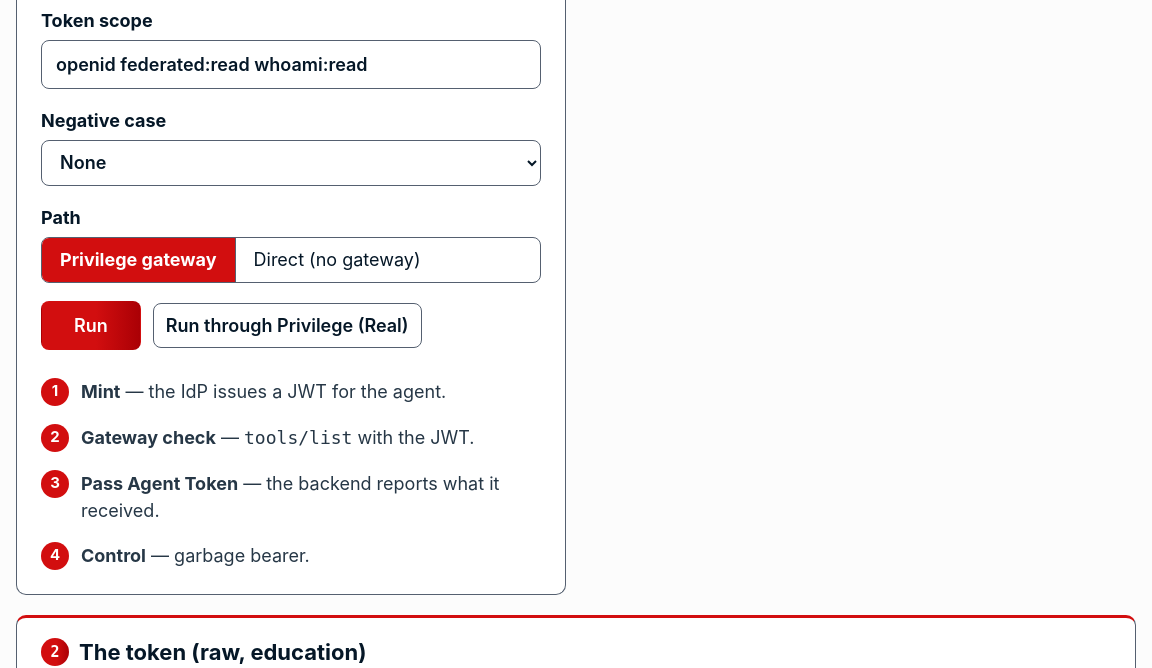
Workload Identity Lab › run shows gateway acceptance, tools, passthrough and 401 control
(page scrolled)
What coordinates should you click on to do the following:
click the button with test id "run-btn"
I would click on:
 (91, 325)
Its box is [41, 301, 141, 350].
(page scrolled)
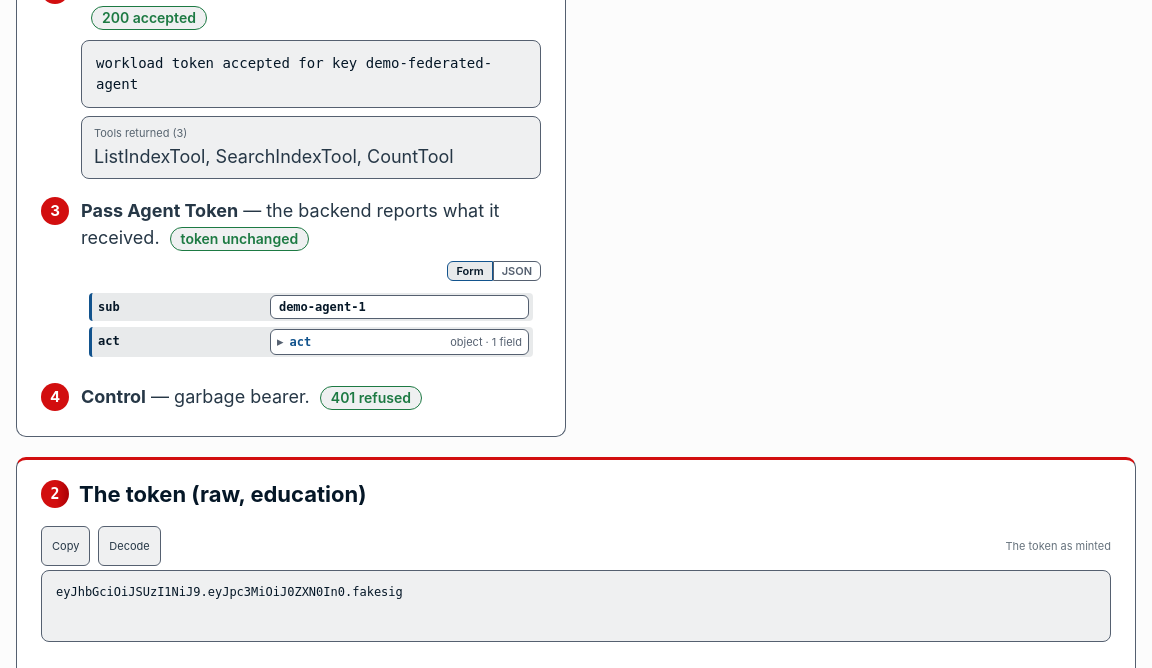
expect the text with test id "gateway-log" shows "workload token accepted": met, box [96, 55, 492, 92]
expect the text with test id "tool-list" reads "ListIndexTool, SearchIndexTool, CountTool": met, box [94, 146, 454, 167]
expect the element with test id "whoami-claims" shows "demo-agent-1": met, box [279, 300, 366, 314]
